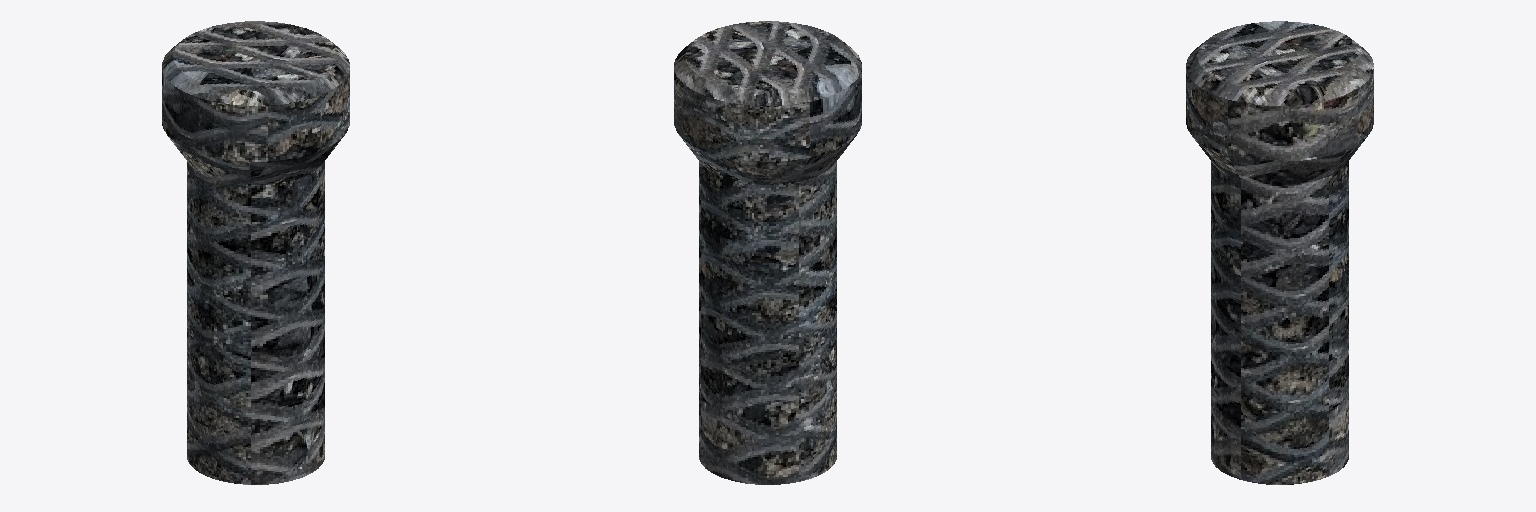
3 views of the same model, side by side, from view 1: azimuth 30°, elevation 25°; view 2: azimuth 150°, elevation 25°; view 3: azimuth 270°, elevation 25° (orthographic).
Parts seen in each view (by area): view 1: Cylinder; view 2: Cylinder; view 3: Cylinder.
Boxes of the visible parts, <box> form: Cylinder: <box>162,21,349,484</box>; Cylinder: <box>674,21,861,484</box>; Cylinder: <box>1186,21,1373,484</box>.
Bounding box in the file's own units: 2.81 × 6.57 × 2.81.
1 materials, 1 textured.